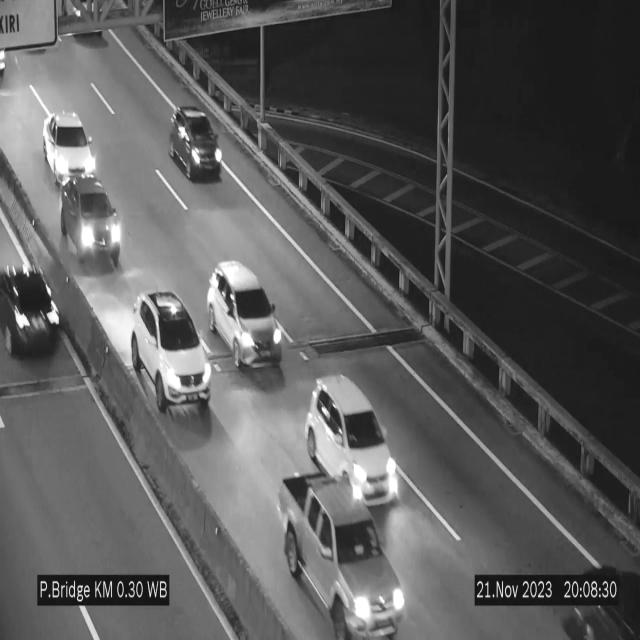Car: (277, 472, 407, 640), (308, 374, 399, 504), (132, 293, 212, 417), (207, 262, 284, 372), (58, 175, 122, 273), (0, 260, 61, 362), (573, 554, 640, 640), (43, 112, 99, 185), (170, 104, 222, 180)
